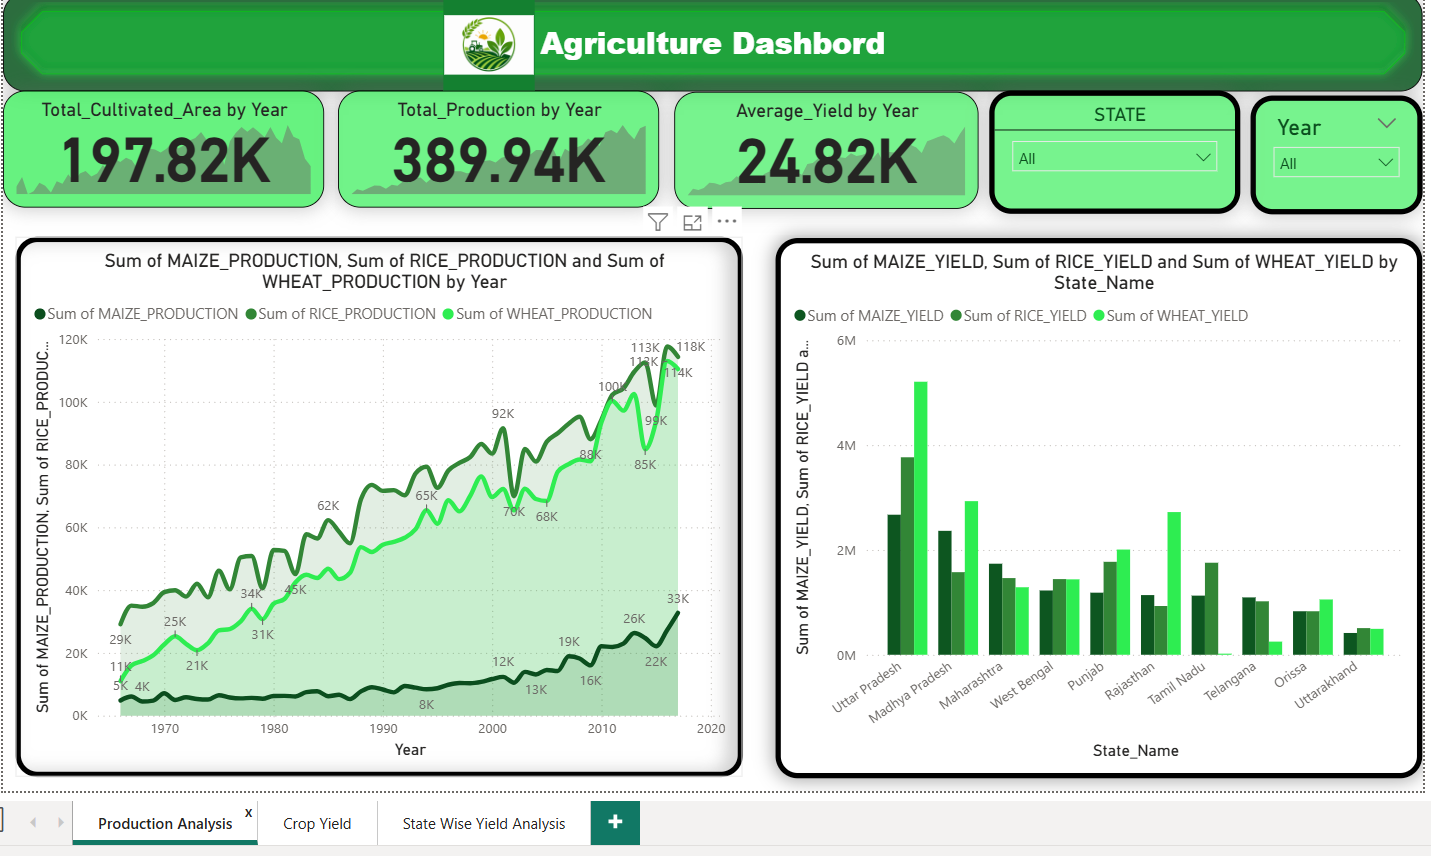

Layout of this report page (visuals, bound fields, positions):
{"tool":"powerbi","page":{"name":"Production Analysis","canvas":[1280,720],"ordinal":0},"visuals":[{"type":"shape","box":[0,0,1280.3,89.2],"z":0},{"type":"kpi","fields":{"TrendLine":["agri_data.Year"],"Indicator":["agri_data.Total_Cultivated_Area"]},"box":[0,87.8,289.5,105.7],"z":1000},{"type":"kpi","fields":{"Indicator":["agri_data.Total_Production"],"TrendLine":["agri_data.Year"]},"box":[301.9,87.8,289.5,105.7],"z":2000},{"type":"kpi","fields":{"TrendLine":["agri_data.Year"],"Indicator":["agri_data.Average_Yield"]},"box":[605.1,89.2,274.4,105.7],"z":3000},{"type":"slicer","fields":{"Values":["agri_data.Year"]},"box":[1125.2,91.9,155.1,107],"z":4000},{"type":"lineChart","fields":{"Category":["agri_data.Year"],"Y":["Sum(agri_data.MAIZE_PRODUCTION)","Sum(agri_data.RICE_PRODUCTION)","Sum(agri_data.WHEAT_PRODUCTION)"]},"box":[11,219.6,655.9,487.1],"z":5000},{"type":"slicer","title":"STATE","fields":{"Values":["agri_data.State_Name","agri_data.Dist_Name"]},"box":[889.2,87.8,226.4,111.1],"z":6000},{"type":"clusteredColumnChart","fields":{"Category":["agri_data.State_Name"],"Y":["Sum(agri_data.MAIZE_YIELD)","Sum(agri_data.RICE_YIELD)","Sum(agri_data.WHEAT_YIELD)"]},"box":[697.1,220.9,583.2,487.1],"z":7000},{"type":"image","box":[392.5,0,91.9,93.3],"z":8000}]}

Visuals, with their boxes in screenshot pixels (x1, y1, x2, y2):
shape: pyautogui.locateOnScreen(4, 0, 1415, 91)
kpi - agri_data.Year x agri_data.Total_Cultivated_Area: pyautogui.locateOnScreen(4, 89, 323, 206)
kpi - agri_data.Total_Production x agri_data.Year: pyautogui.locateOnScreen(337, 89, 656, 206)
kpi - agri_data.Year x agri_data.Average_Yield: pyautogui.locateOnScreen(671, 91, 973, 207)
slicer - agri_data.Year: pyautogui.locateOnScreen(1244, 94, 1415, 212)
lineChart - agri_data.Year x Sum(agri_data.MAIZE_PRODUCTION): pyautogui.locateOnScreen(16, 235, 739, 772)
"STATE" slicer: pyautogui.locateOnScreen(984, 89, 1234, 212)
clusteredColumnChart - agri_data.State_Name x Sum(agri_data.MAIZE_YIELD): pyautogui.locateOnScreen(772, 236, 1415, 773)
image: pyautogui.locateOnScreen(436, 0, 538, 95)
